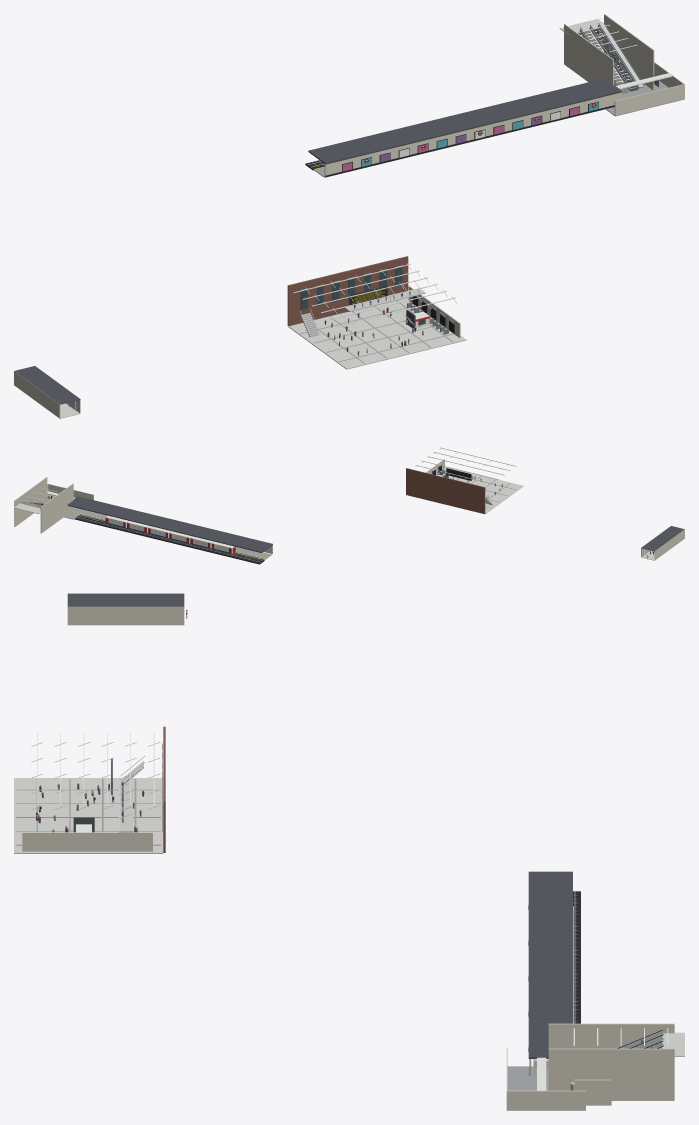
The picture shows the model from 3 angles, top to bottom: view 1: azimuth 30°, elevation 25°; view 2: azimuth 150°, elevation 25°; view 3: azimuth 270°, elevation 25°; orthographic projection. The views are drawn at different scales.
Parts seen in each view (by area): view 1: S02 immense tiled concourse floor, S04 dark arched ceiling proxy, S02 tall brick end wall, S04 tiled platform wall, S03 left shaft wall, S03 right shaft wall, S05 south tiled wall, S01 low ceiling, S01 left wall, S04 black wall base stripe; view 2: S04 dark arched ceiling proxy, S02 tall brick end wall, S02 immense tiled concourse floor, S03 left shaft wall, S04 track bed, S03 right shaft wall, S04 long tube platform, S01 low ceiling, S01 left wall, S05 south tiled wall; view 3: S04 dark arched ceiling proxy, S02 immense tiled concourse floor, S03 right shaft wall, S03 left shaft wall, S02 right shop fascia, S01 right wall, S01 low ceiling, S05 east tiled wall, S04 track bed, S03 lift wall and sign, S05 broad lower landing floor.
Part boxes in pixels (bbox=[...]): S02 immense tiled concourse floor: bbox=[288, 298, 466, 369]; S04 dark arched ceiling proxy: bbox=[308, 78, 622, 164]; S02 tall brick end wall: bbox=[287, 256, 408, 326]; S04 tiled platform wall: bbox=[324, 92, 621, 177]; S03 left shaft wall: bbox=[564, 24, 613, 85]; S03 right shaft wall: bbox=[604, 14, 654, 90]; S05 south tiled wall: bbox=[614, 84, 684, 115]; S01 low ceiling: bbox=[14, 366, 80, 404]; S01 left wall: bbox=[14, 371, 60, 418]; S04 black wall base stripe: bbox=[325, 105, 614, 177]; S04 dark arched ceiling proxy: bbox=[67, 496, 272, 552]; S02 tall brick end wall: bbox=[406, 468, 485, 514]; S02 immense tiled concourse floor: bbox=[438, 467, 523, 514]; S03 left shaft wall: bbox=[40, 483, 73, 533]; S04 track bed: bbox=[74, 515, 264, 564]; S03 right shaft wall: bbox=[14, 477, 47, 526]; S04 long tube platform: bbox=[72, 507, 271, 559]; S01 low ceiling: bbox=[641, 526, 684, 551]; S01 left wall: bbox=[654, 529, 684, 560]; S05 south tiled wall: bbox=[48, 483, 93, 499]; S04 dark arched ceiling proxy: bbox=[528, 871, 572, 1058]; S02 immense tiled concourse floor: bbox=[14, 778, 163, 853]; S03 right shaft wall: bbox=[548, 1048, 674, 1100]; S03 left shaft wall: bbox=[548, 1023, 674, 1048]; S02 right shop fascia: bbox=[22, 832, 152, 851]; S01 right wall: bbox=[67, 606, 184, 624]; S01 low ceiling: bbox=[67, 593, 184, 606]; S05 east tiled wall: bbox=[506, 1090, 585, 1109]; S04 track bed: bbox=[573, 891, 580, 1023]; S03 lift wall and sign: bbox=[574, 1079, 611, 1105]; S05 broad lower landing floor: bbox=[506, 1066, 585, 1110].
Size of the model in its own units: 252 by 12.75 by 144.
